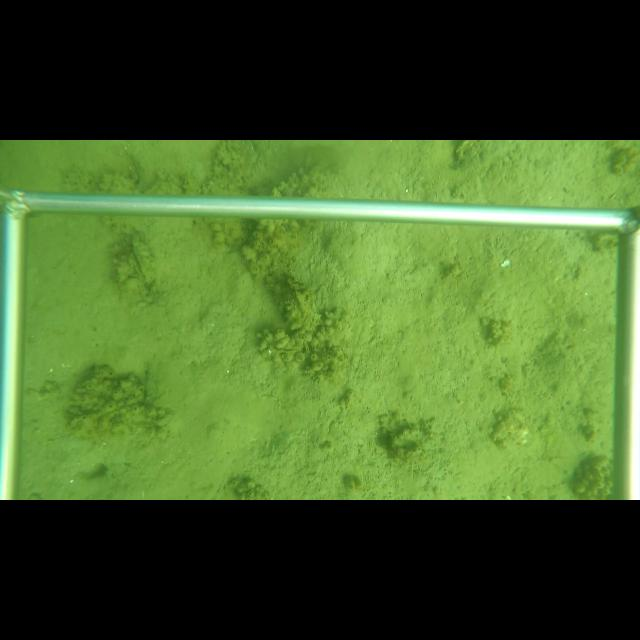Oyster-Open: (128, 230, 155, 291), (291, 289, 307, 306)
